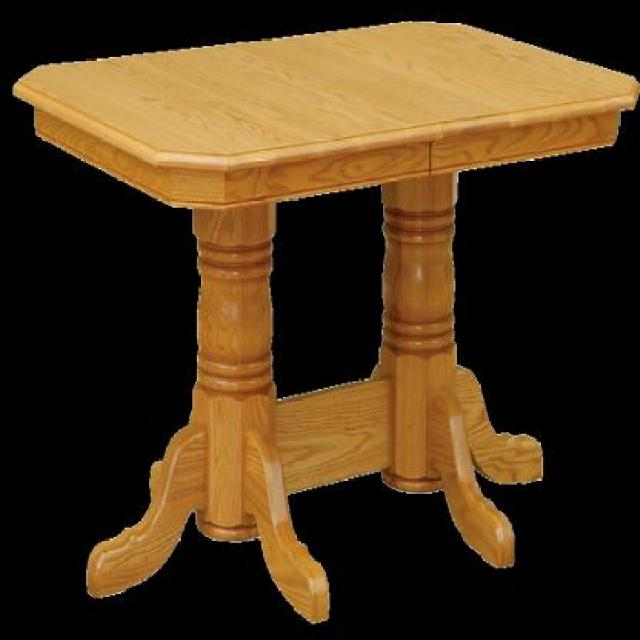table: (13, 17, 638, 617)
